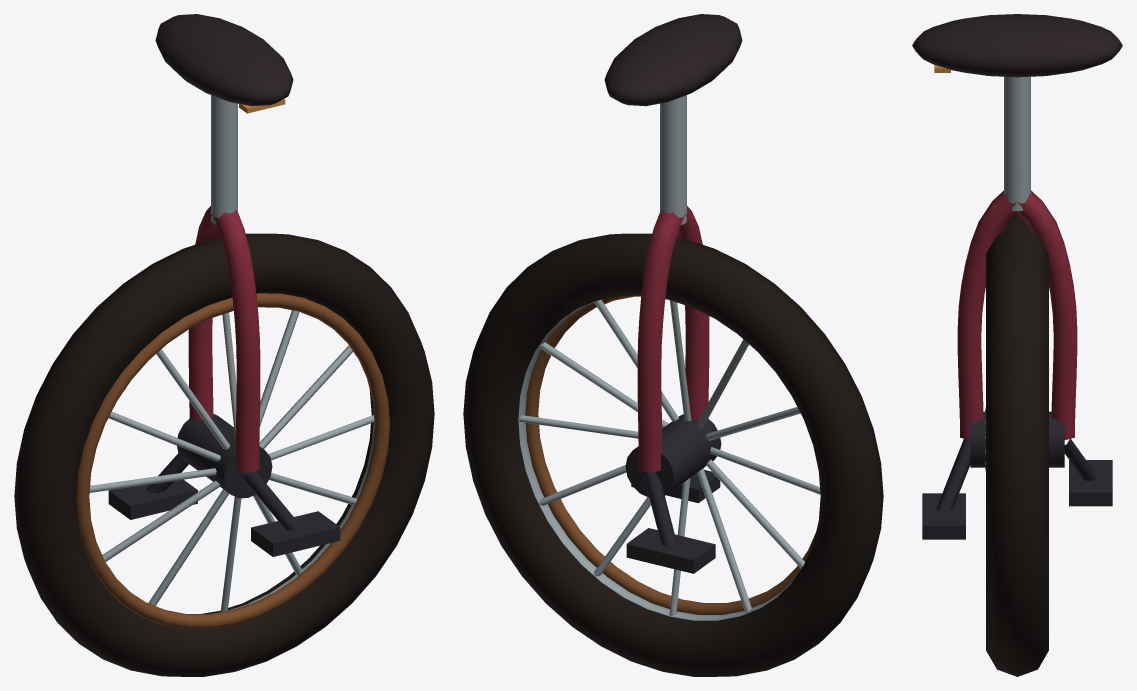
The model's file is mia-unicycle.glb.
The picture shows the model from 3 angles, left to right: view 1: azimuth 30°, elevation 25°; view 2: azimuth 150°, elevation 25°; view 3: azimuth 270°, elevation 25°; orthographic projection.
Visible parts, largest first — view 1: Body_black, Body_steel, Body_rust, Body_iron, Body_velvet, Body_leather; view 2: Body_black, Body_steel, Body_velvet, Body_leather, Body_iron, Body_rust; view 3: Body_black, Body_velvet, Body_leather, Body_iron, Body_steel.
Boxes of the visible parts, left/top/right/bottom form: Body_black: left=14, top=233, right=434, bottom=676; Body_steel: left=89, top=95, right=374, bottom=611; Body_rust: left=76, top=293, right=389, bottom=629; Body_iron: left=108, top=414, right=340, bottom=556; Body_velvet: left=188, top=206, right=260, bottom=472; Body_leather: left=155, top=14, right=293, bottom=106; Body_black: left=463, top=233, right=883, bottom=676; Body_steel: left=518, top=95, right=820, bottom=620; Body_velvet: left=637, top=206, right=709, bottom=472; Body_leather: left=604, top=14, right=742, bottom=106; Body_iron: left=625, top=414, right=721, bottom=573; Body_rust: left=525, top=295, right=815, bottom=614; Body_black: left=986, top=214, right=1048, bottom=676; Body_velvet: left=957, top=190, right=1077, bottom=439; Body_leather: left=912, top=14, right=1122, bottom=77; Body_iron: left=922, top=411, right=1112, bottom=539; Body_steel: left=985, top=76, right=1030, bottom=471.
Size of the model in its own units: 0.73 by 1.07 by 0.324.
